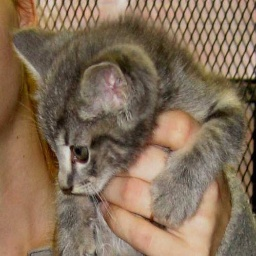cat: (7, 15, 256, 256)
